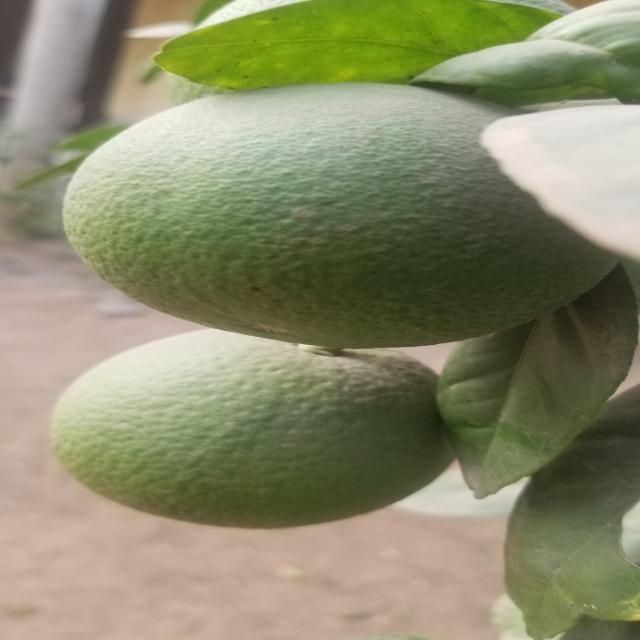agrume: (72, 83, 620, 349), (39, 330, 461, 530)
